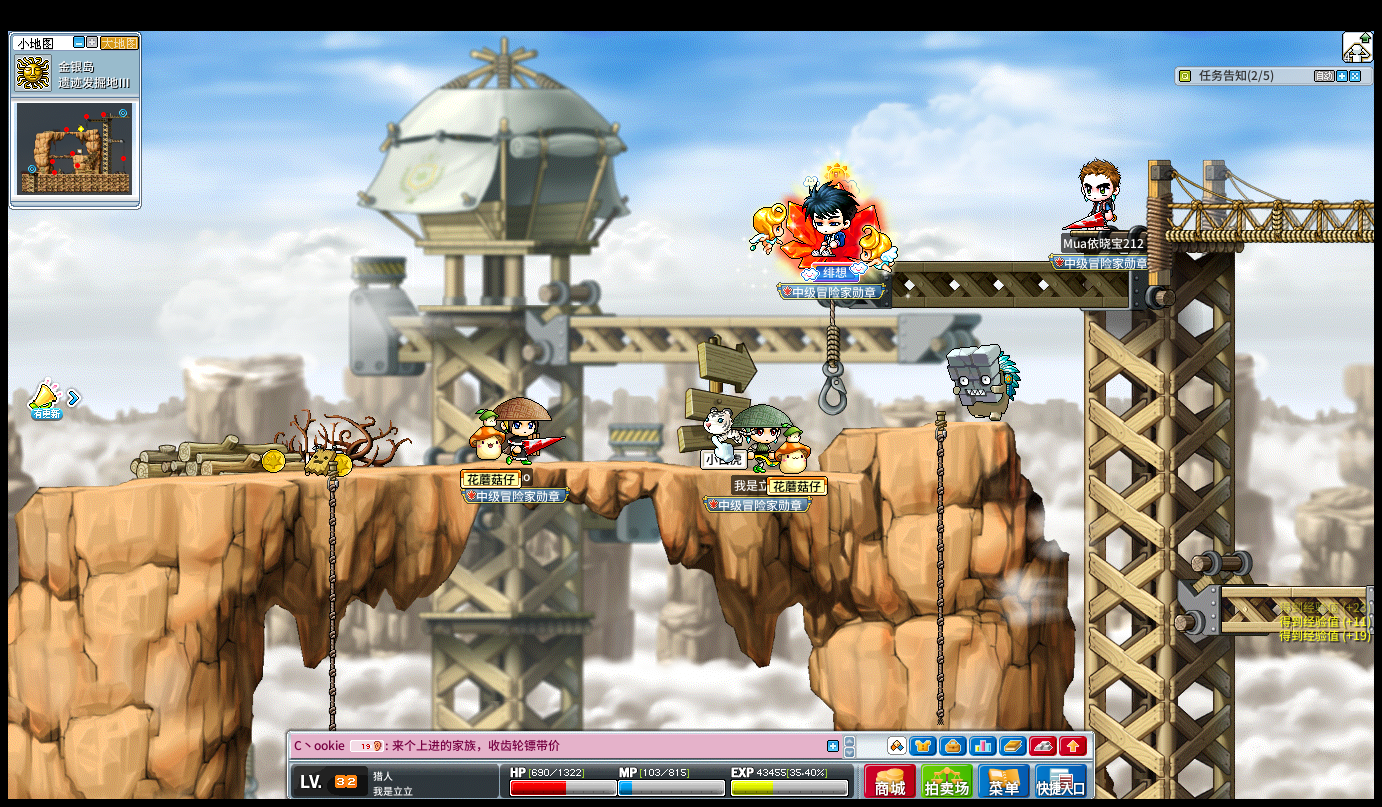floor: (47, 455, 918, 483), (319, 458, 837, 473), (1160, 194, 1373, 210), (841, 419, 1007, 435), (1221, 583, 1377, 599), (842, 422, 1006, 436)
monster: (946, 343, 1019, 422)
rope: (932, 411, 947, 714), (324, 457, 337, 720), (932, 614, 945, 721)
